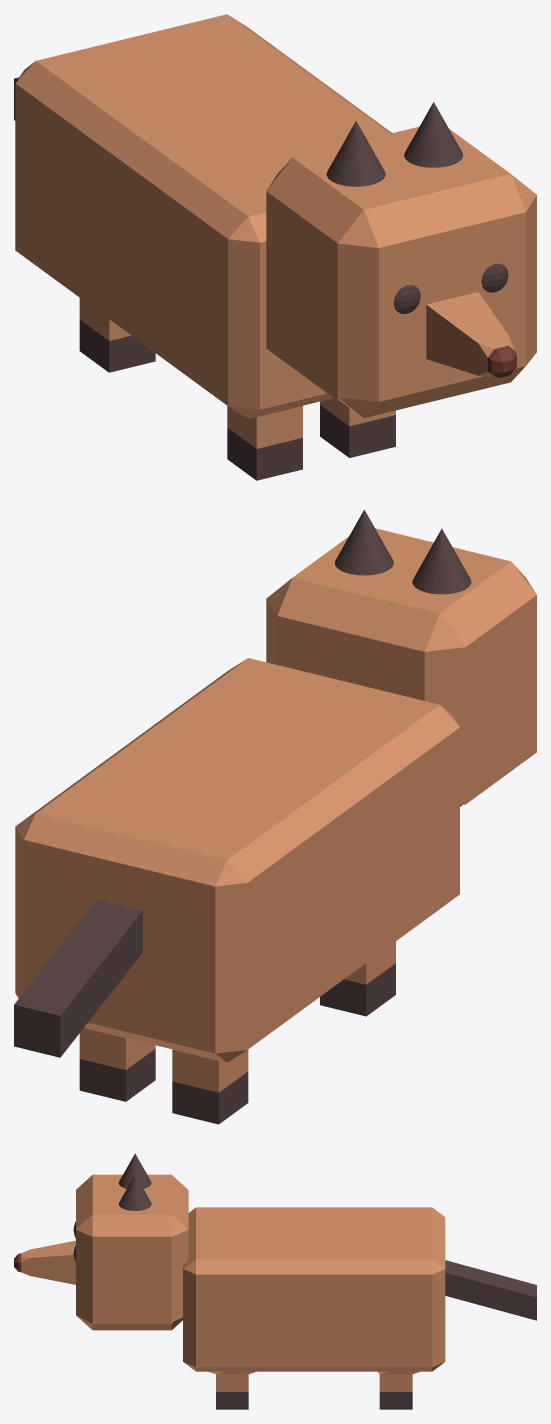
The model's file is wolf.fbx.
The picture shows the model from 3 angles, top to bottom: view 1: azimuth 30°, elevation 25°; view 2: azimuth 150°, elevation 25°; view 3: azimuth 270°, elevation 25°; orthographic projection. The views are drawn at different scales.
Parts seen in each view (by area): view 1: Cone; view 2: Cone; view 3: Cone.
Boxes of the visible parts, x1=… form: Cone: x1=14, y1=14, x2=536, y2=480; Cone: x1=14, y1=509, x2=536, y2=1124; Cone: x1=14, y1=1153, x2=536, y2=1409.
Bounding box in the file's own units: 200 × 335 × 703.
